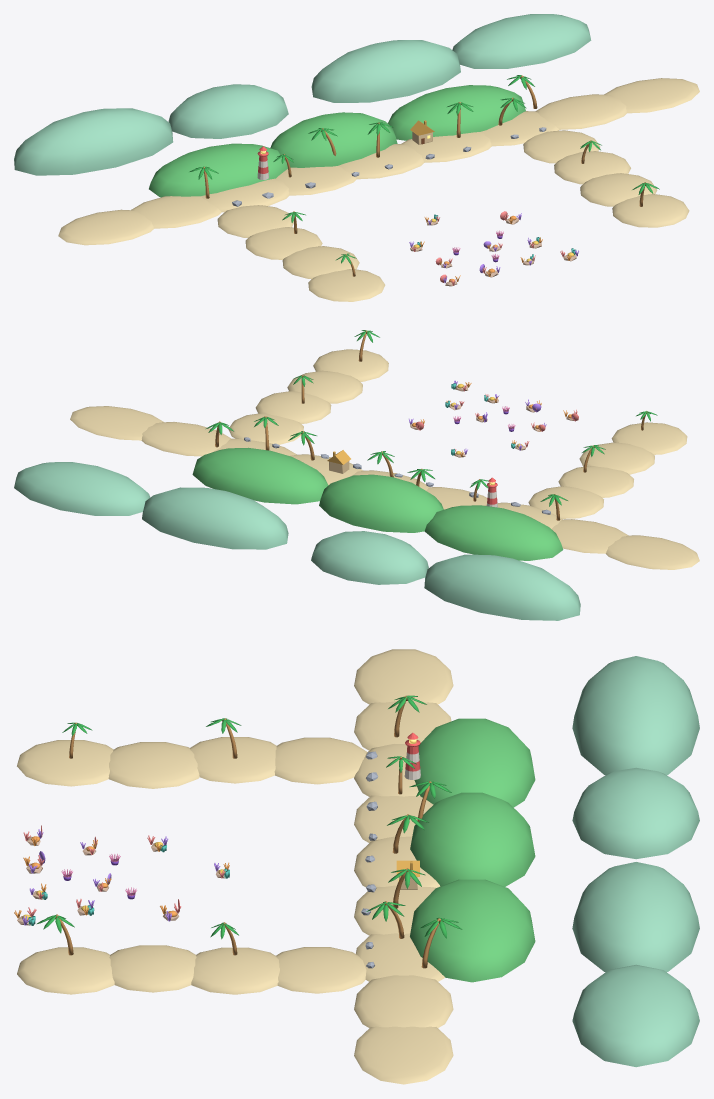
Rendered from shore_reef.glb.
3 views of the same model, one above another, from view 1: azimuth 30°, elevation 25°; view 2: azimuth 150°, elevation 25°; view 3: azimuth 270°, elevation 25° (orthographic). The views are drawn at different scales.
Visible parts, largest first — view 1: shore_reef_mesh; view 2: shore_reef_mesh; view 3: shore_reef_mesh.
Part boxes in pixels (<box>): shore_reef_mesh: <box>14,14,699,301</box>; shore_reef_mesh: <box>14,330,699,620</box>; shore_reef_mesh: <box>14,649,699,1084</box>.
Bounding box in the file's own units: 113 × 9.16 × 75.26.
